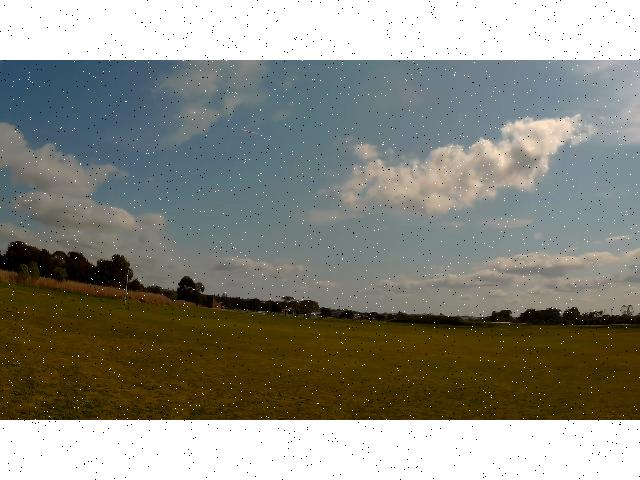Anti-Drone: (239, 127, 259, 135)
